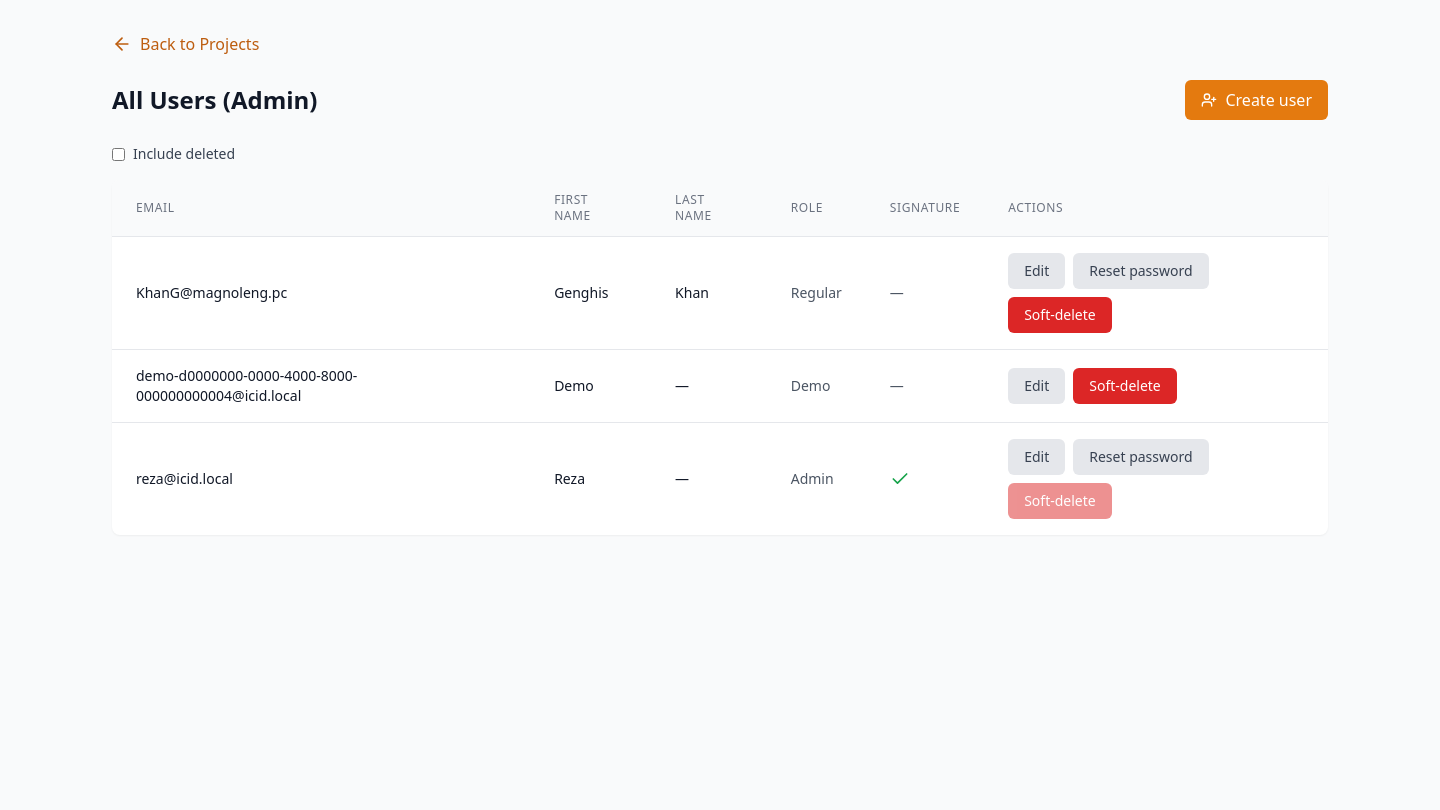
Test: AdminUsersPage — editing a user › changes the email and grants the admin role: confirmed first, then the list is read and the new email announced
Click the button "Edit" in the row of "KhanG@magnoleng.pc" at (1037, 271), box [1008,253,1065,289]
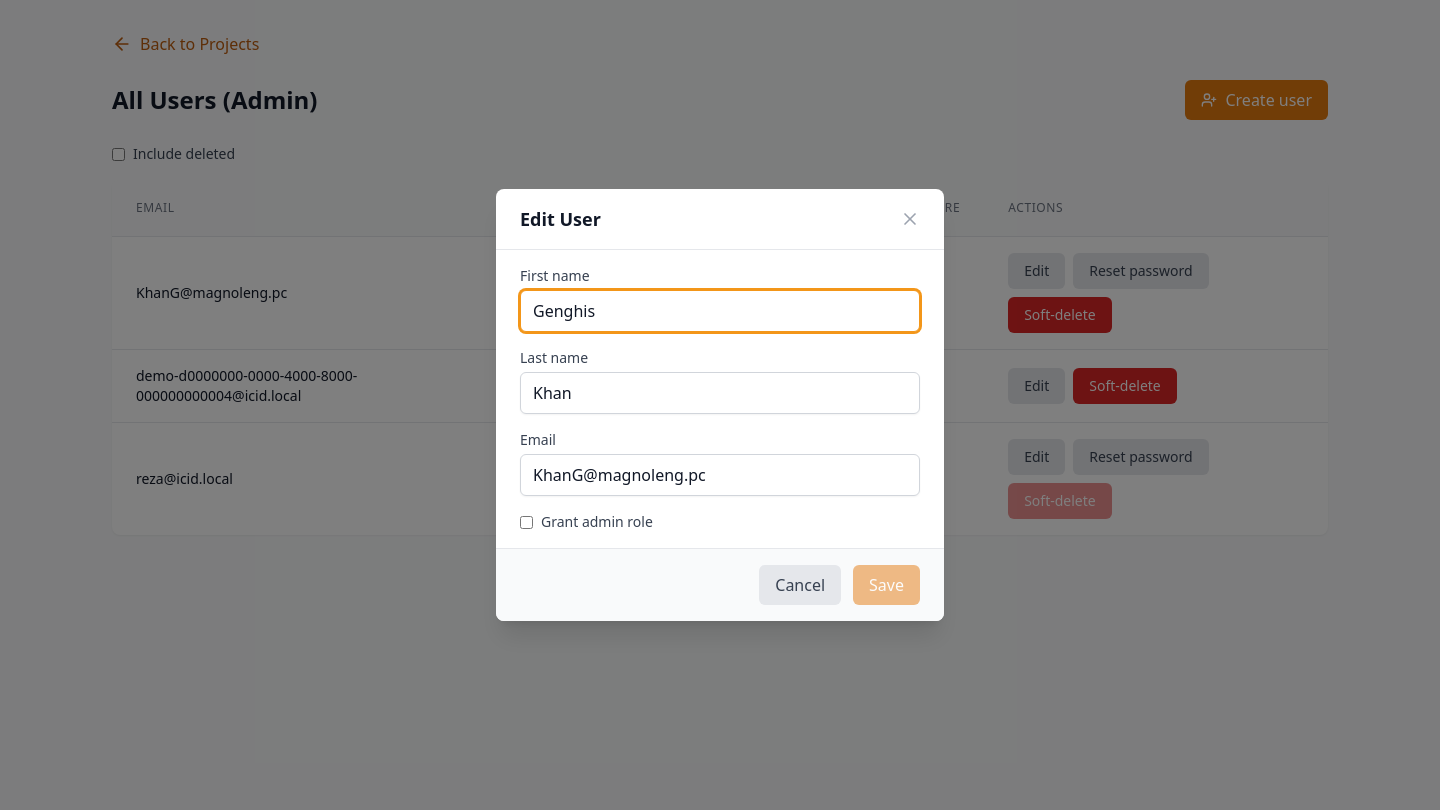
Replace the text in the field labelled "Email" with "khan@magnoleng.pc" at (720, 475), box [520,454,920,496]
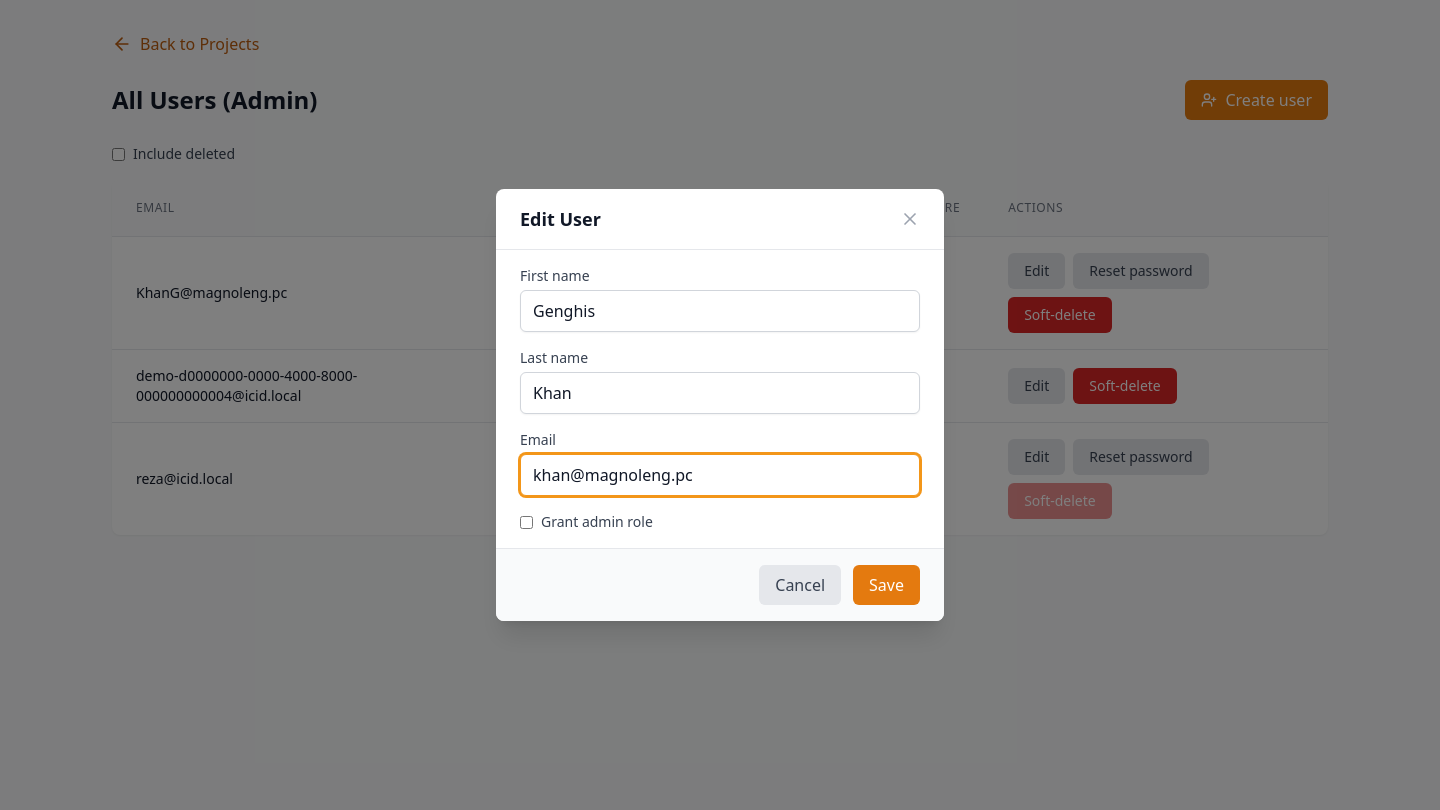
Click the checkbox labelled "Grant admin role" at (526, 522), box [520,516,533,528]
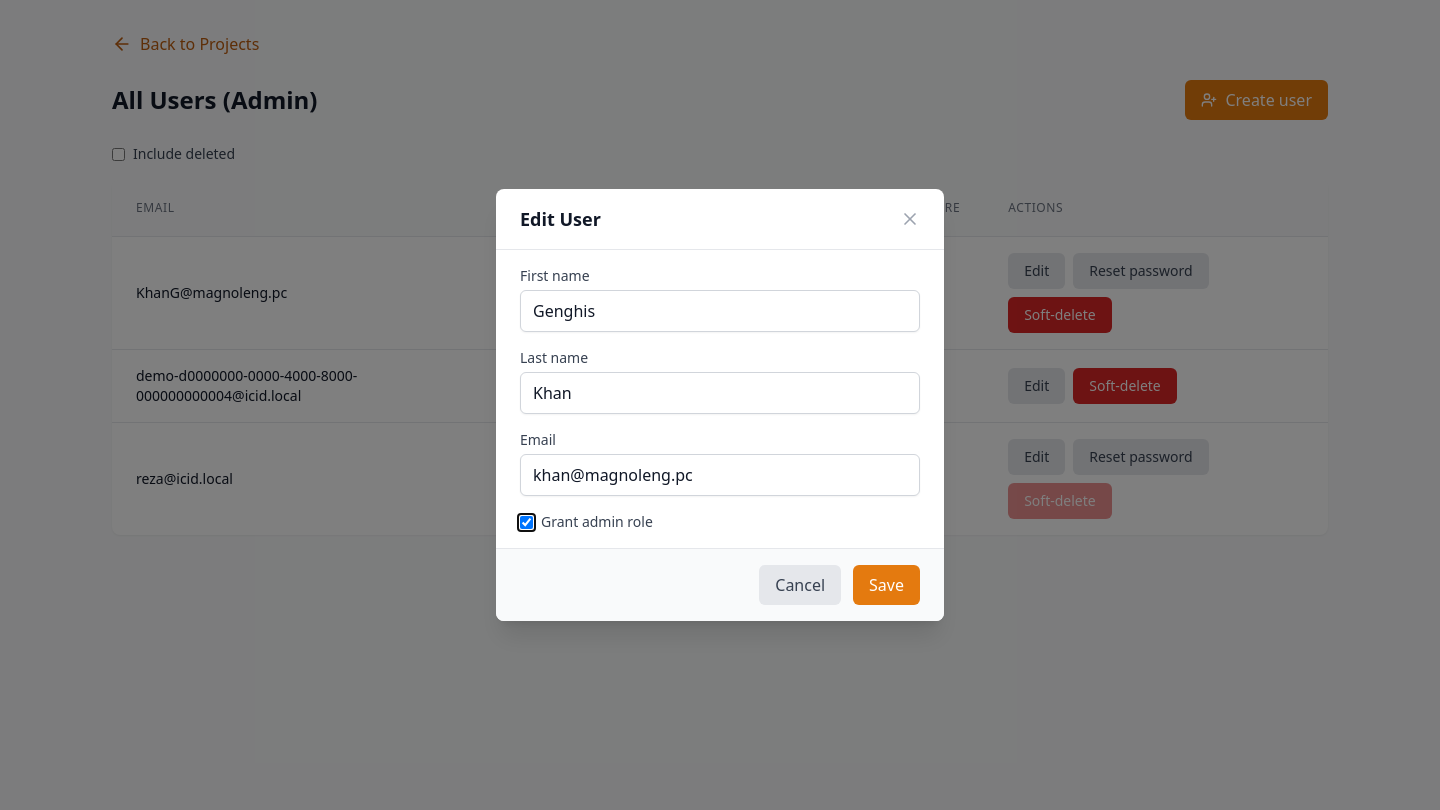
Click the button "Save" at (887, 585), box [853,565,920,605]
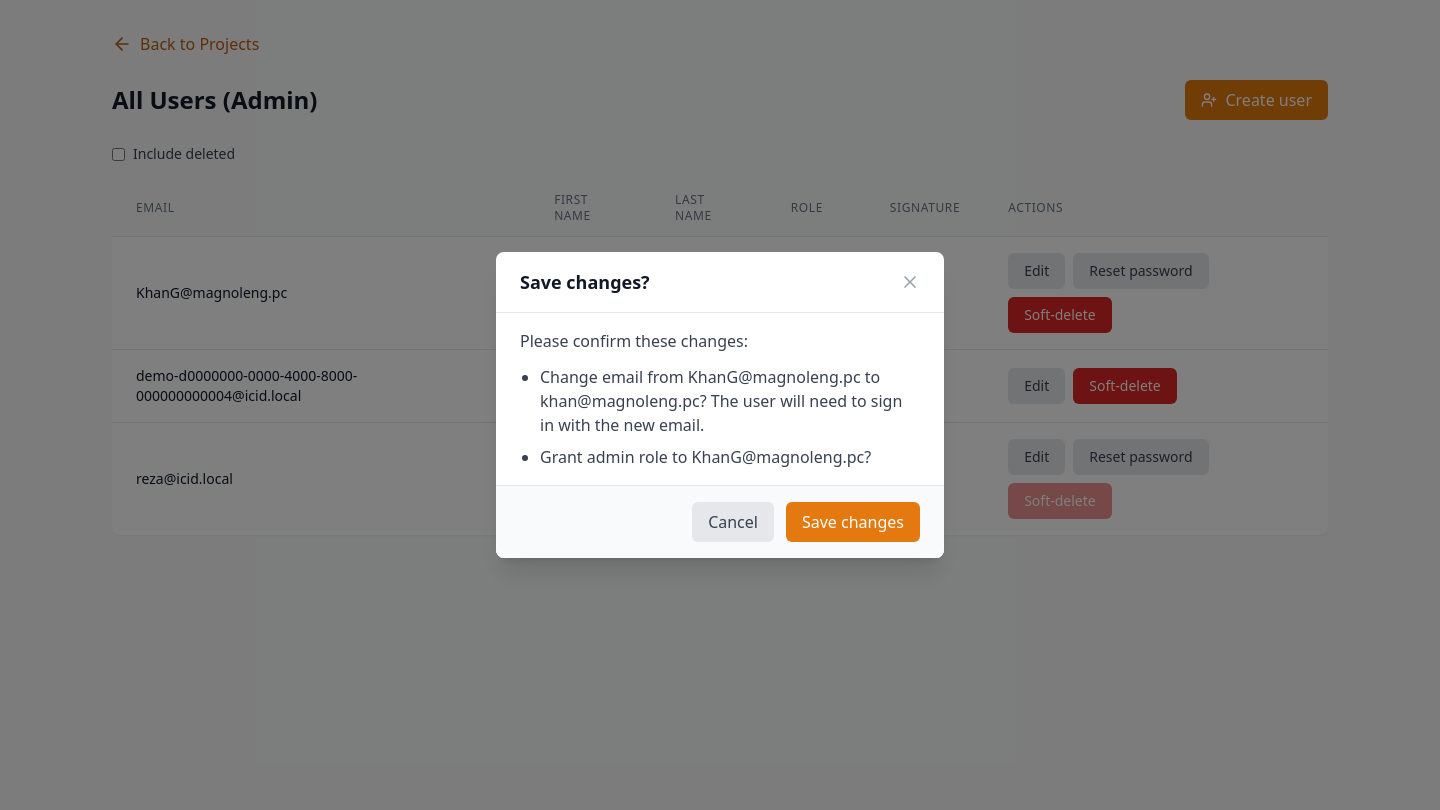
Check: the list items read "Change email from KhanG@magnoleng.pc to khan@magnoleng.pc? The user will need to sign in with the new email.", "Grant admin role to KhanG@magnoleng.pc?", in this order, box [540,365,920,437]; [540,445,920,469]
Click the button "Save changes" at (853, 522), box [786,502,920,542]
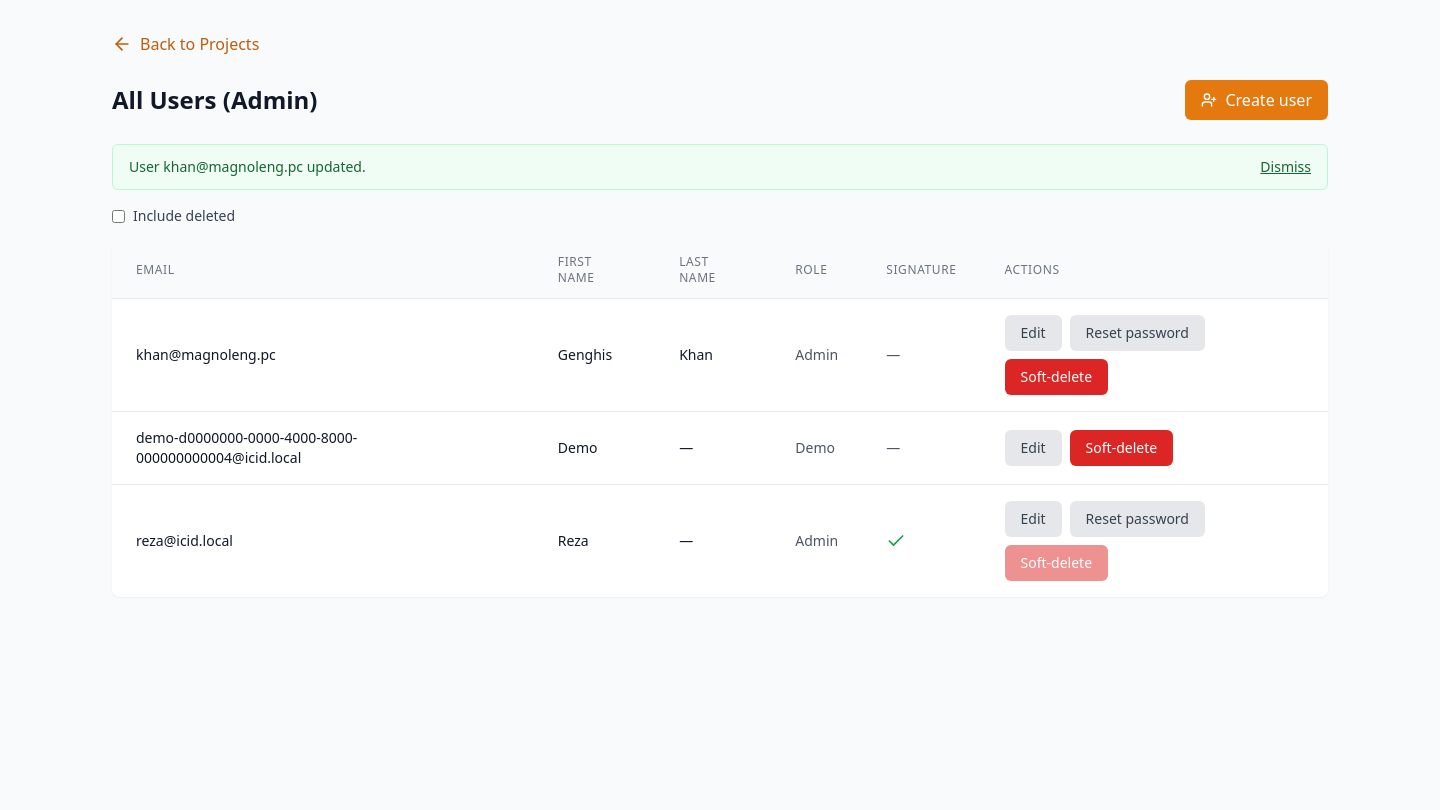
Check: the dialog is gone
Check: the message shows "User khan@magnoleng.pc updated.", box [112,144,1328,190]
